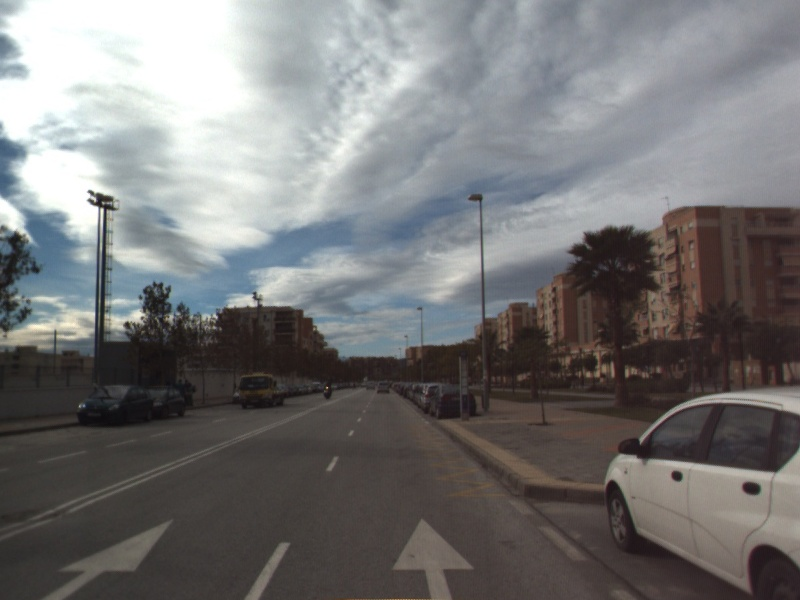STRAIGHT: (37, 517, 176, 600), (389, 516, 477, 600)
